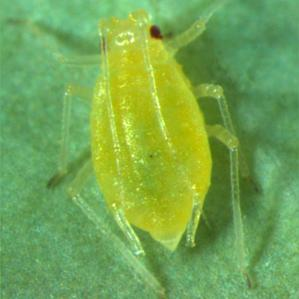Green peach aphid: (26, 6, 271, 292)
